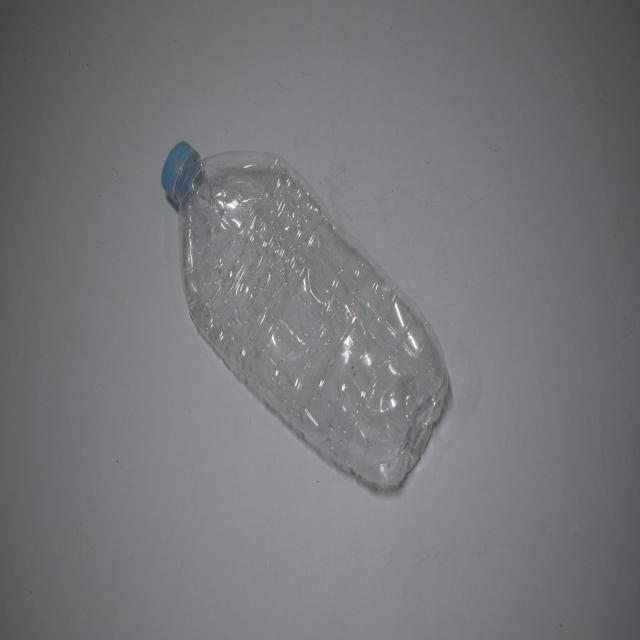empty: (161, 141, 448, 490)
